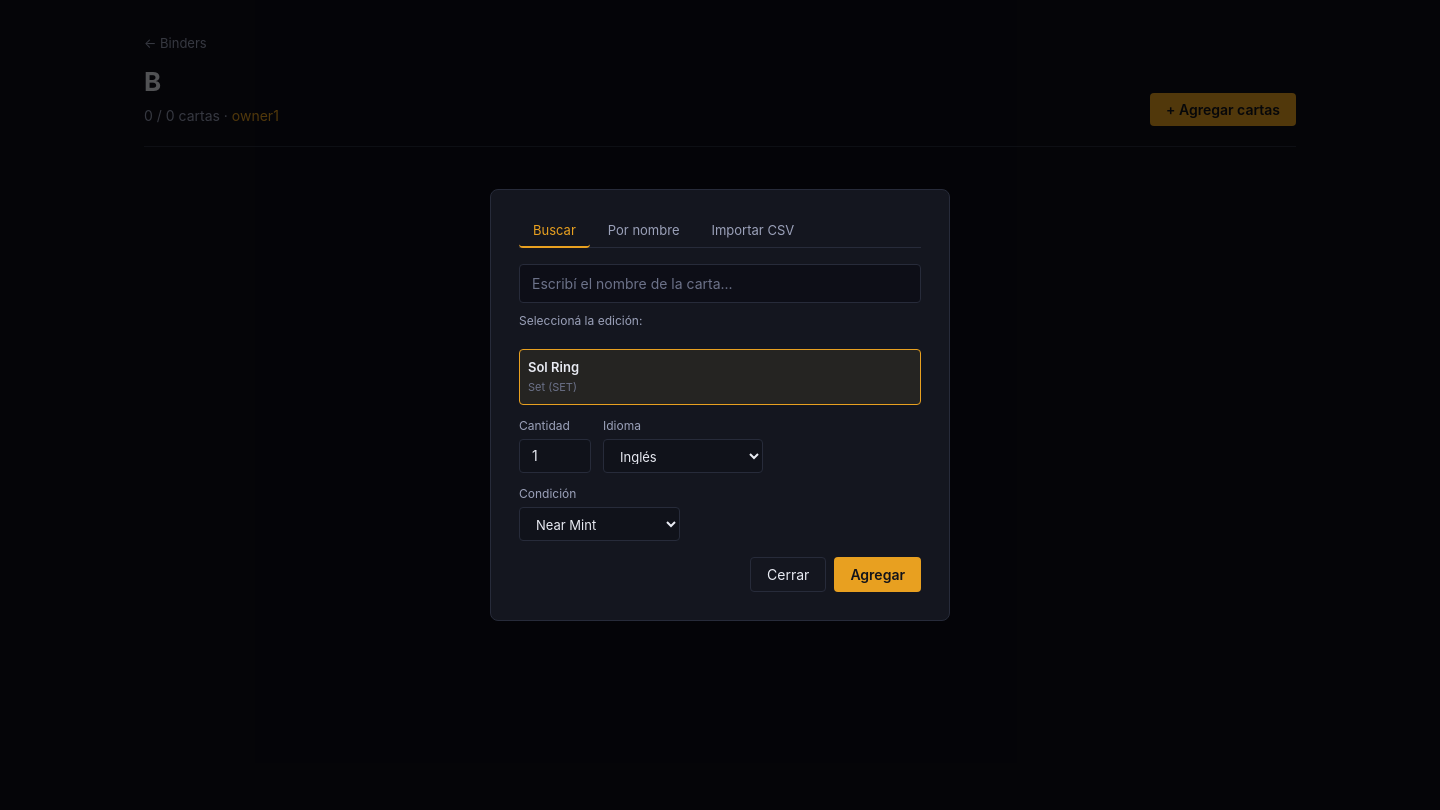
it: BinderDetail.vue — agregar una carta buscada › sends quantity, language and condition picked in the modal
Replace the text in the number field labelled "Cantidad" with "3": (555, 456) [519,439,591,473]
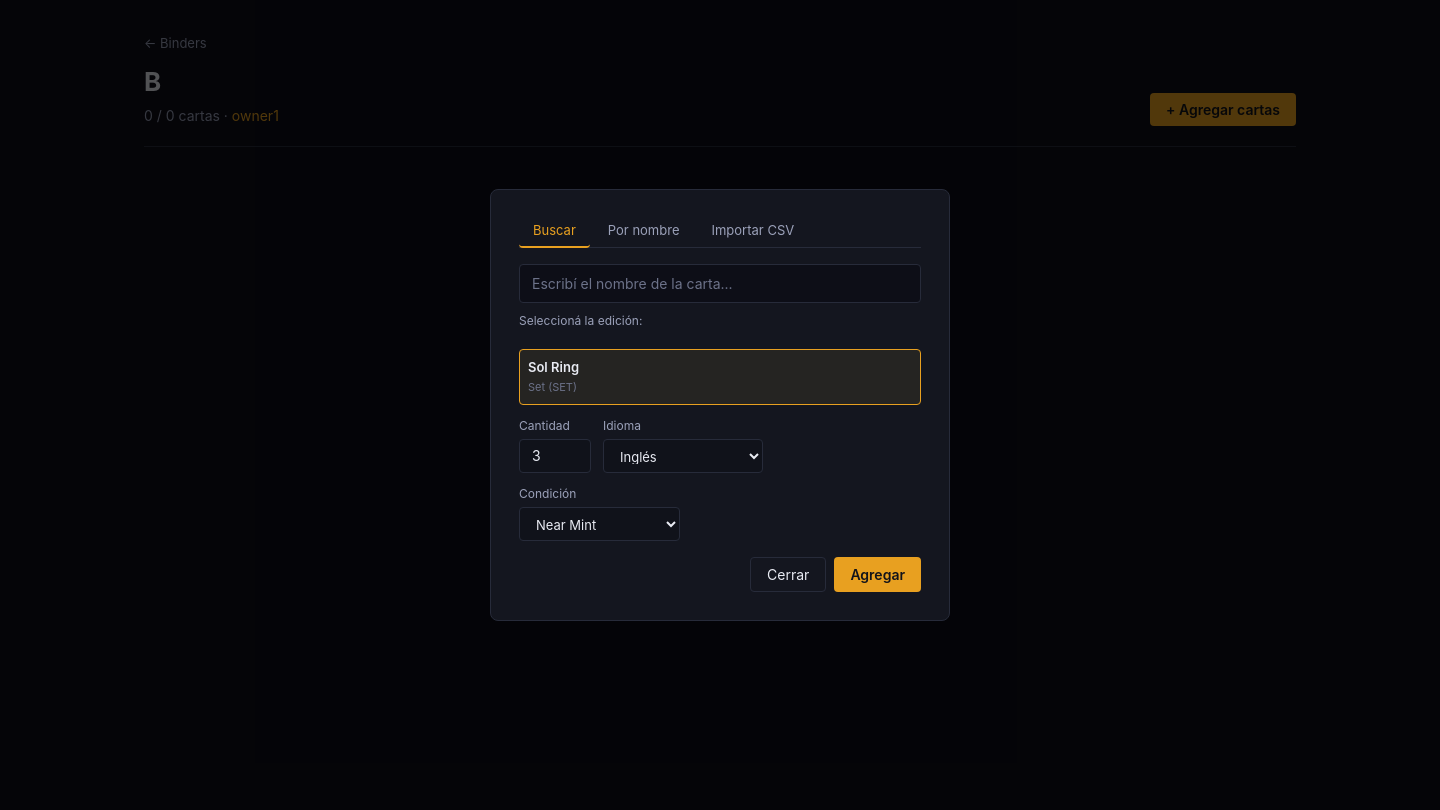
Select "Japonés" in the dropdown labelled "Idioma": (683, 456) [603,439,763,473]
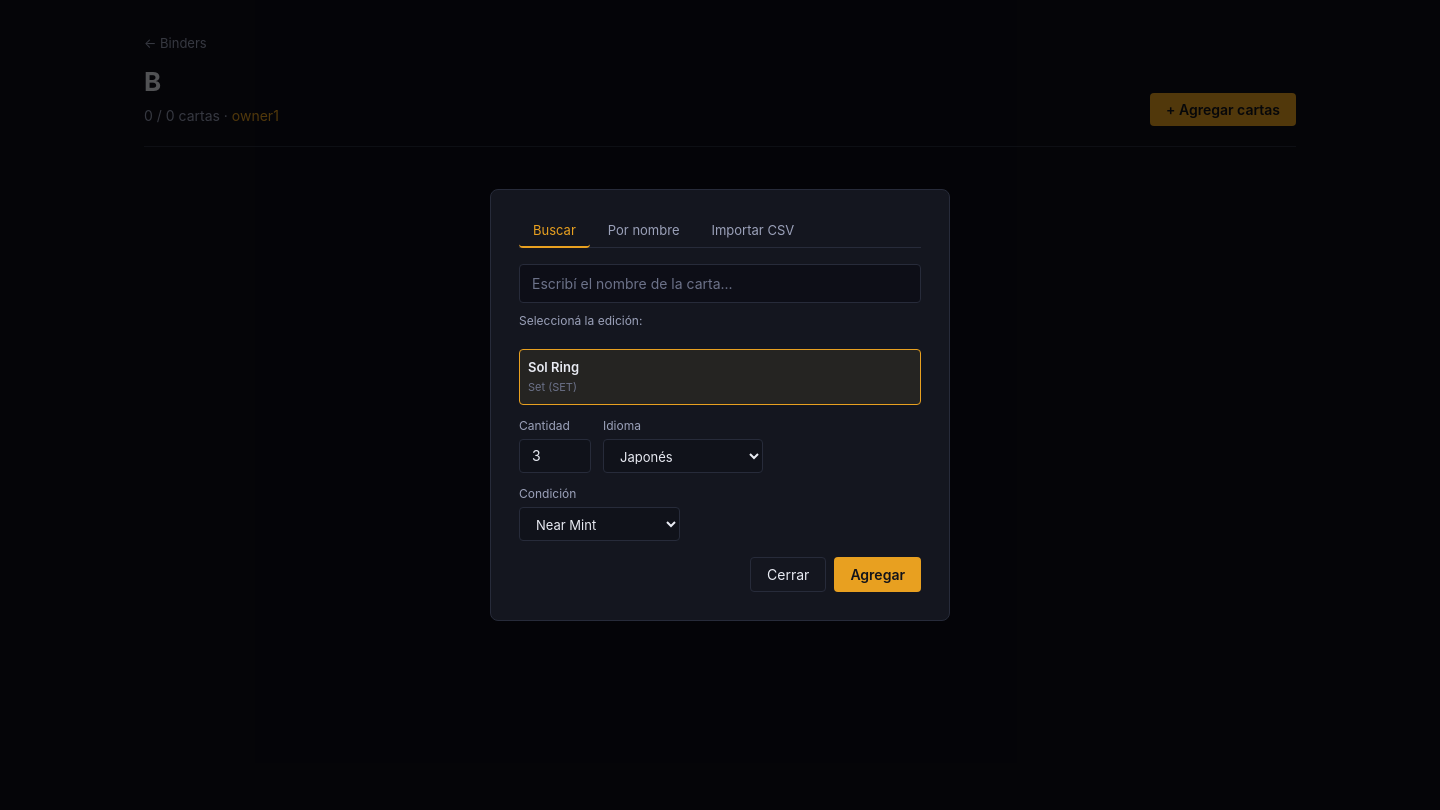
Select "Slightly Played" in the dropdown labelled "Condición": (600, 524) [519,507,680,541]
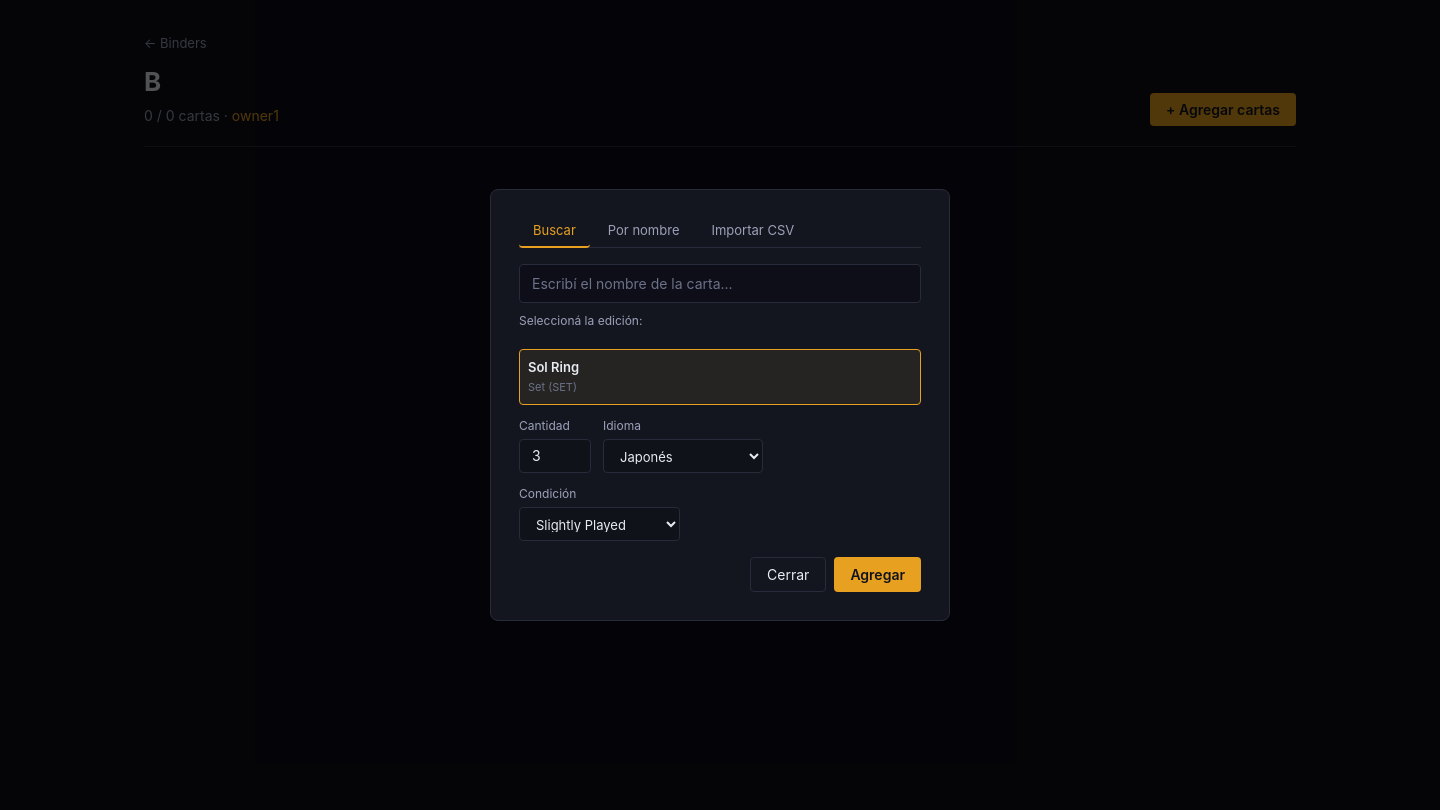
Click the button "Agregar": click(878, 574) [834,557,921,592]
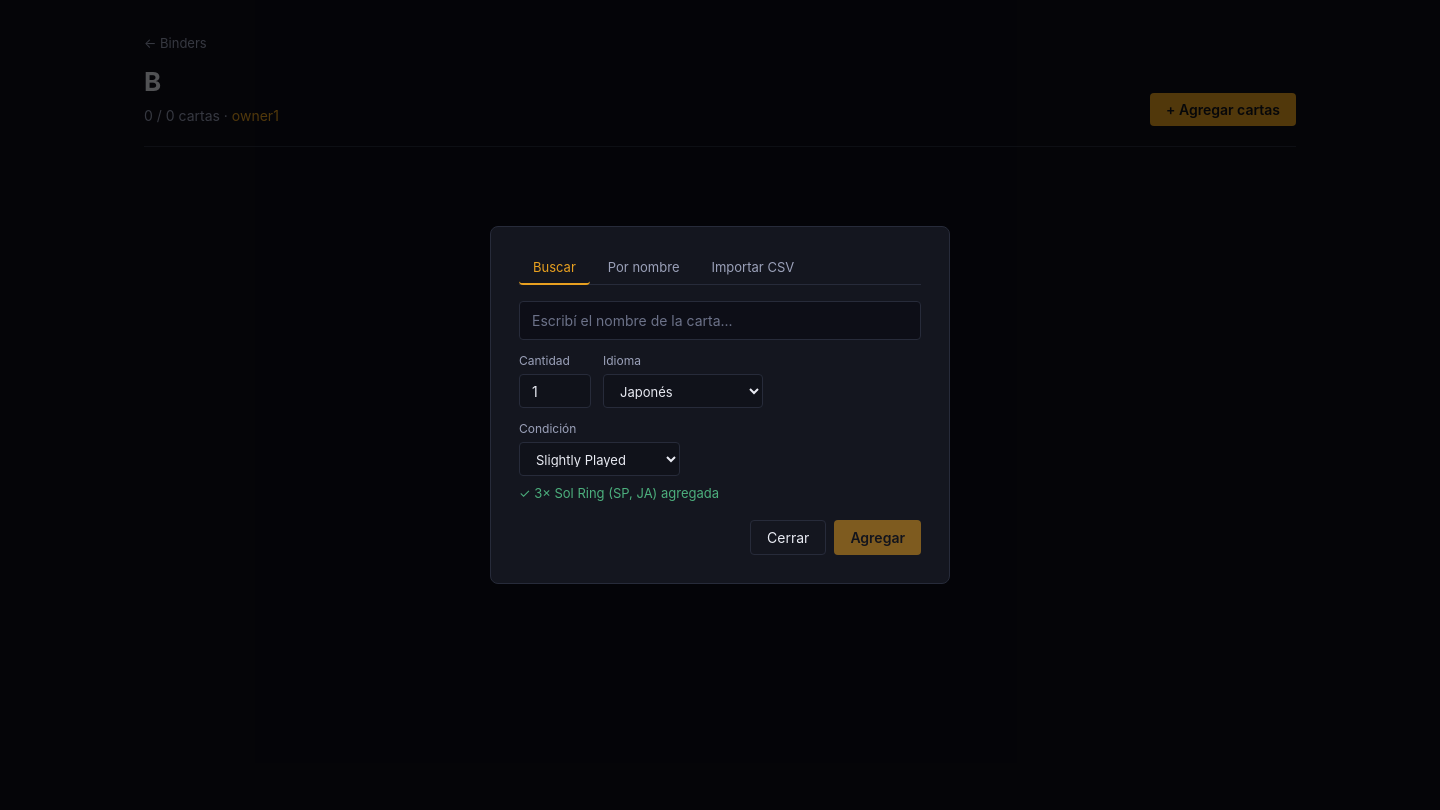
Check: the text with class "result-msg" shows "3× Sol Ring", box [519,485,719,501]
